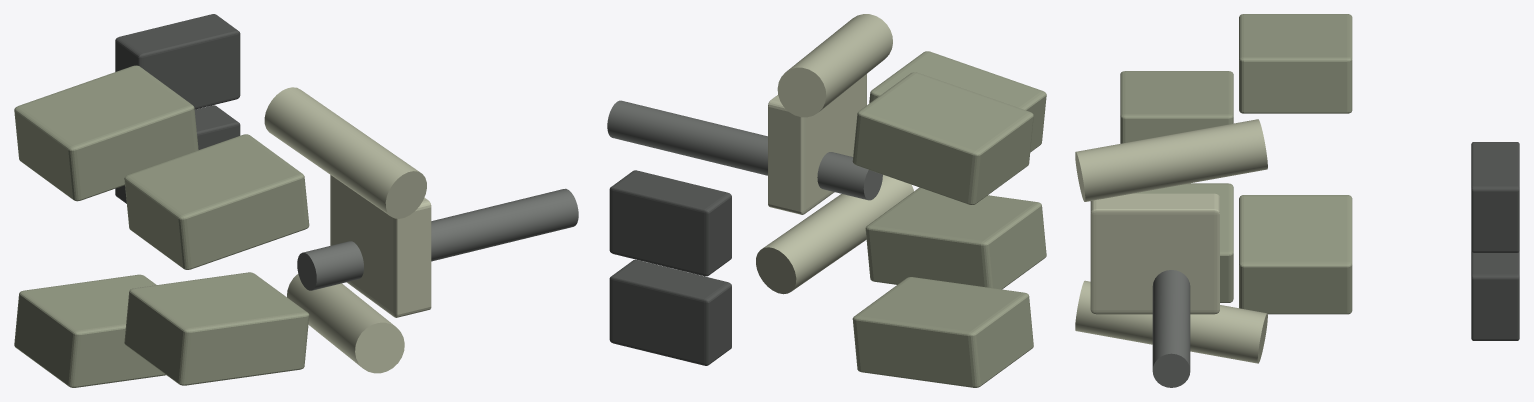
Rendered from v-u07-vanguard-infiltrator-lod2.glb.
3 renders of one model, left to right at view 1: azimuth 30°, elevation 25°; view 2: azimuth 150°, elevation 25°; view 3: azimuth 270°, elevation 25°, orthographic. The views are drawn at different scales.
Visible parts, largest first — view 1: cloak_1_1, cloak_1_3, cloak_-1_1, cloak_-1_3, soldier_0_arm_1, soldier_0_chest, soldier_0_rifle, soldier_0_boot_1, soldier_0_arm_-1, soldier_0_boot_-1; view 2: cloak_1_3, cloak_-1_3, cloak_-1_1, soldier_0_boot_1, soldier_0_boot_-1, soldier_0_rifle, soldier_0_chest, soldier_0_arm_-1, soldier_0_arm_1, cloak_1_1; view 3: soldier_0_chest, cloak_-1_3, cloak_1_3, soldier_0_arm_1, cloak_1_1, soldier_0_arm_-1, soldier_0_boot_1, soldier_0_boot_-1, soldier_0_rifle, cloak_-1_1.
Part boxes in pixels (left/top/right/bottom): cloak_1_1: left=124, top=134, right=309, bottom=269; cloak_1_3: left=14, top=65, right=198, bottom=201; cloak_-1_1: left=124, top=272, right=309, bottom=385; cloak_-1_3: left=14, top=274, right=165, bottom=387; soldier_0_arm_1: left=264, top=87, right=426, bottom=218; soldier_0_chest: left=330, top=175, right=431, bottom=317; soldier_0_rifle: left=297, top=188, right=578, bottom=290; soldier_0_boot_1: left=115, top=14, right=240, bottom=109; soldier_0_arm_-1: left=287, top=274, right=404, bottom=373; soldier_0_boot_-1: left=115, top=105, right=240, bottom=203; cloak_1_3: left=852, top=72, right=1033, bottom=204; cloak_-1_3: left=852, top=277, right=1033, bottom=387; cloak_-1_1: left=865, top=187, right=1046, bottom=289; soldier_0_boot_1: left=609, top=170, right=731, bottom=276; soldier_0_boot_-1: left=609, top=259, right=731, bottom=365; soldier_0_rifle: left=607, top=100, right=882, bottom=200; soldier_0_chest: left=768, top=74, right=866, bottom=214; soldier_0_arm_-1: left=756, top=175, right=913, bottom=294; soldier_0_arm_1: left=777, top=14, right=892, bottom=117; cloak_1_1: left=869, top=51, right=1046, bottom=152; soldier_0_chest: left=1090, top=193, right=1219, bottom=314; cloak_-1_3: left=1239, top=195, right=1352, bottom=314; cloak_1_3: left=1239, top=14, right=1352, bottom=113; soldier_0_arm_1: left=1075, top=119, right=1267, bottom=201; cloak_1_1: left=1120, top=71, right=1233, bottom=143; soldier_0_arm_-1: left=1075, top=280, right=1267, bottom=363; soldier_0_boot_1: left=1471, top=142, right=1519, bottom=252; soldier_0_boot_-1: left=1471, top=251, right=1519, bottom=340; soldier_0_rifle: left=1152, top=270, right=1190, bottom=387; cloak_-1_1: left=1133, top=183, right=1233, bottom=302.
Size of what is drawn, in the model's own units: 1.91 by 1.05 by 1.65.
